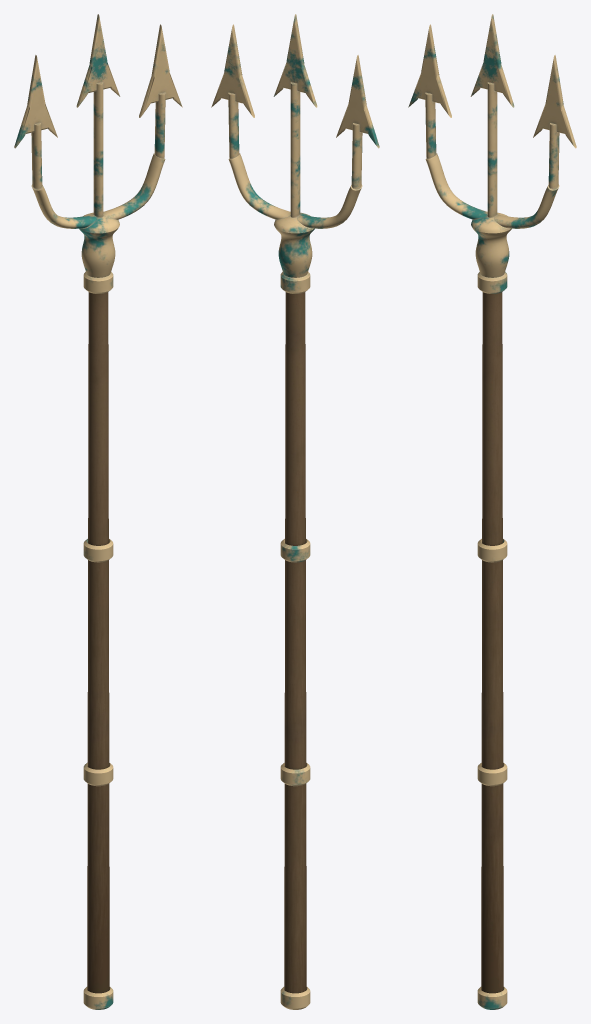
File: trident.glb
The picture shows the model from 3 angles, left to right: view 1: azimuth 30°, elevation 25°; view 2: azimuth 150°, elevation 25°; view 3: azimuth 330°, elevation 25°; orthographic projection.
Visible parts, largest first — view 1: trident; view 2: trident; view 3: trident.
Boxes of the visible parts, box(x1,y1,x2,y2) form: trident: box(14, 14, 182, 1009); trident: box(211, 14, 379, 1009); trident: box(408, 14, 576, 1009).
Bounding box in the file's own units: 0.2743 × 1.55 × 0.0609.
1 material, 1 textured.
